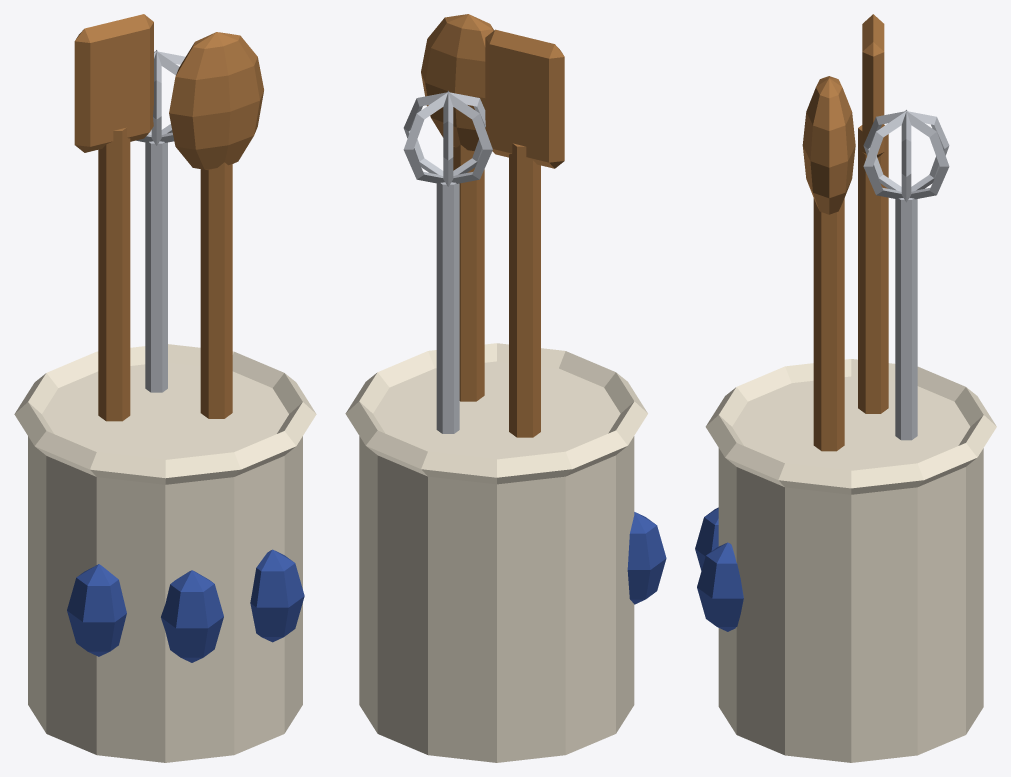
The model's file is utensil_holder.glb.
3 renders of one model, left to right at view 1: azimuth 30°, elevation 25°; view 2: azimuth 150°, elevation 25°; view 3: azimuth 270°, elevation 25°, orthographic. The views are drawn at different scales.
Visible parts, largest first — view 1: utensil_holder; view 2: utensil_holder; view 3: utensil_holder.
Boxes of the visible parts, x1,y1,x2,y2 form: utensil_holder: (14,14,316,762); utensil_holder: (345,14,666,762); utensil_holder: (695,14,996,762).
Size of the model in its own units: 0.132 by 0.33 by 0.1368.
